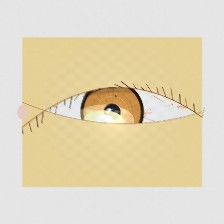corneal_ulcer: (71, 95, 136, 146)
